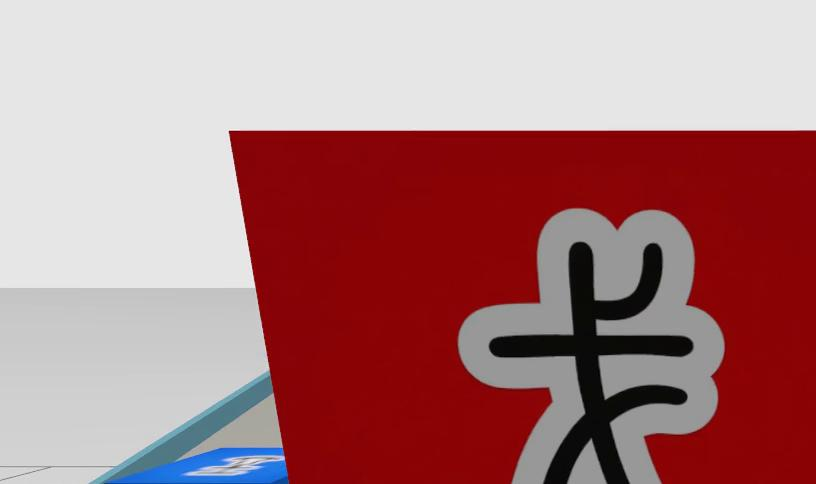KFS_FAKE: (232, 131, 816, 484), (460, 209, 723, 484)
